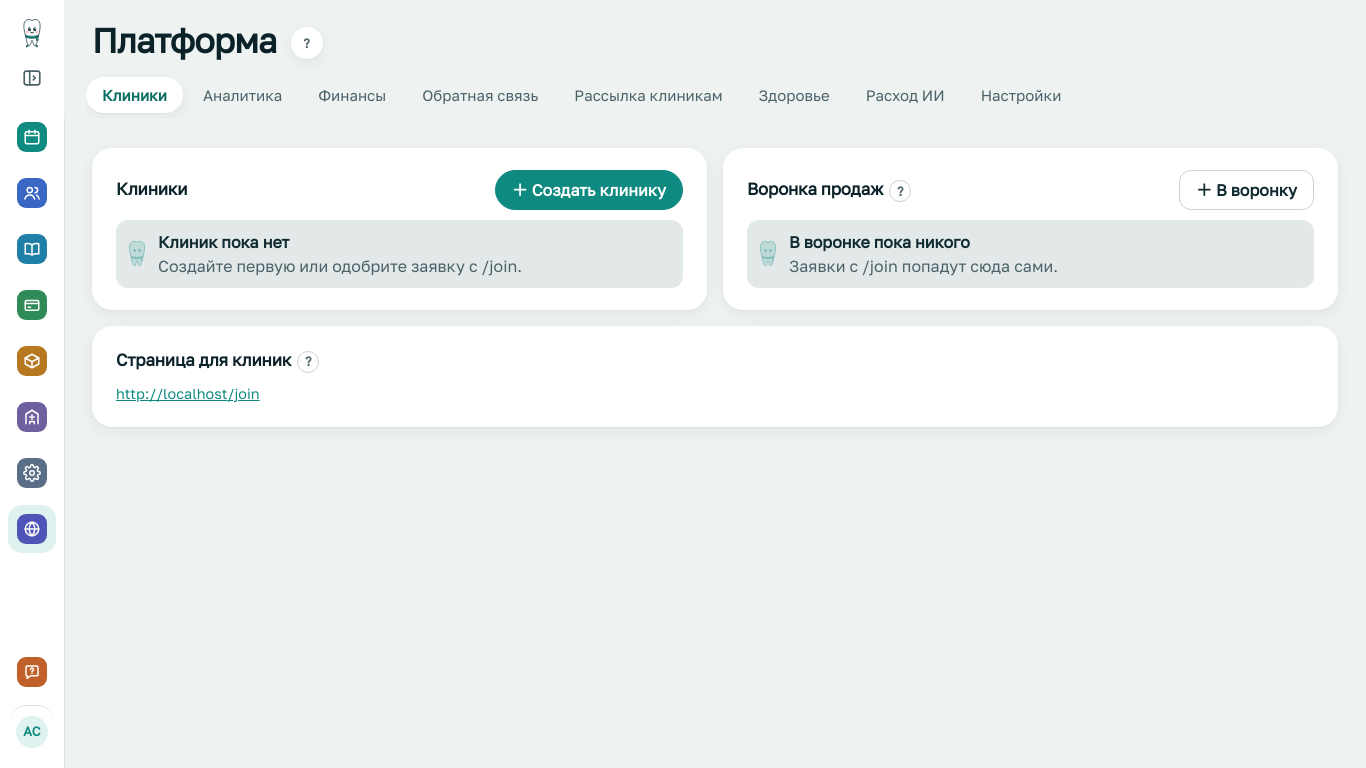
Test case: владелец: аналитика платформы — сводка, кому звонить, риск, воронка; период меняет запрос
Expected: the navigation bar named "Разделы" is shown, [8,113,56,553]
Click the link "Аналитика".
click(242, 95)  # box [203,86,282,104]
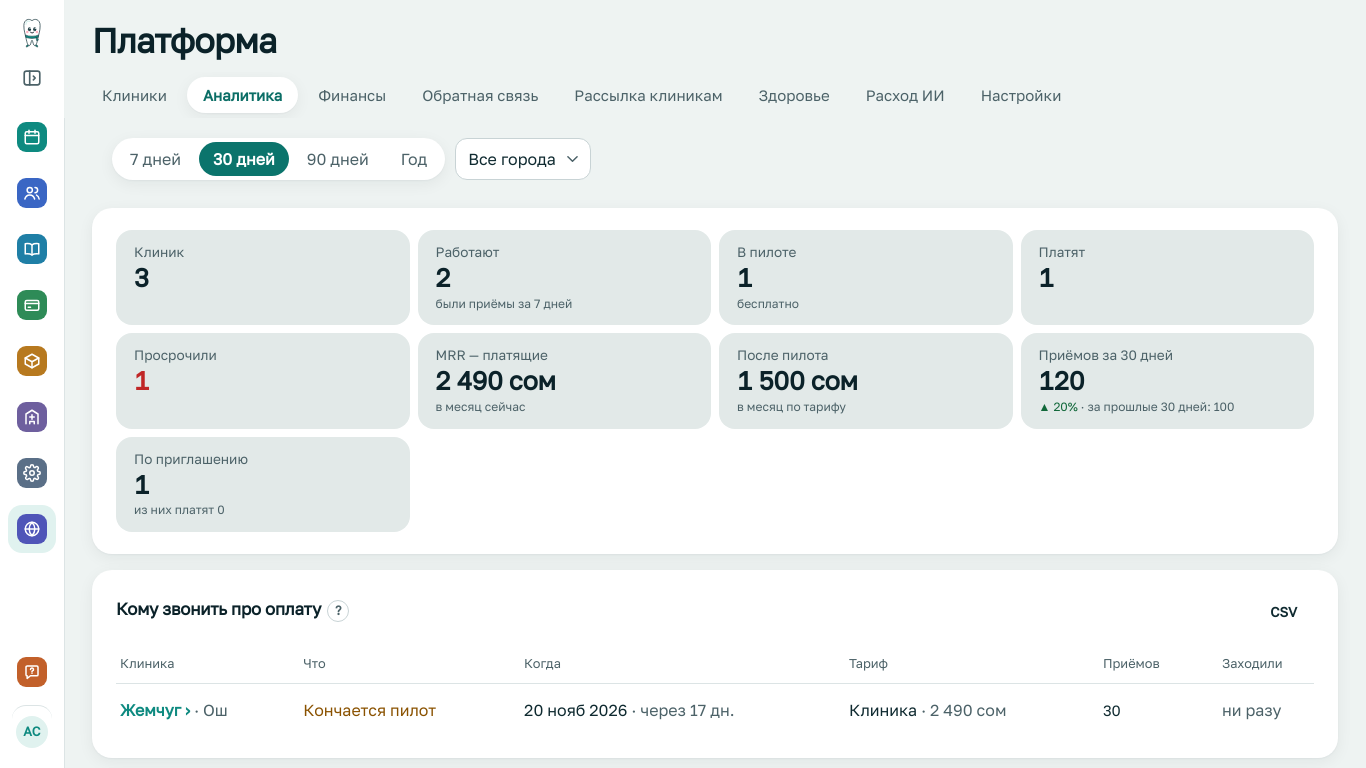
Expected: the list item "Платят 1" is shown, [1020,230,1314,325]
Expected: the list item "MRR — платящие 2 490 сом в месяц сейчас" is shown, [418,333,711,429]
Expected: the list item "После пилота 1 500 сом в месяц по тарифу" is shown, [719,333,1012,429]
Click the button "90 дней".
click(338, 159)  # box [293,142,383,176]
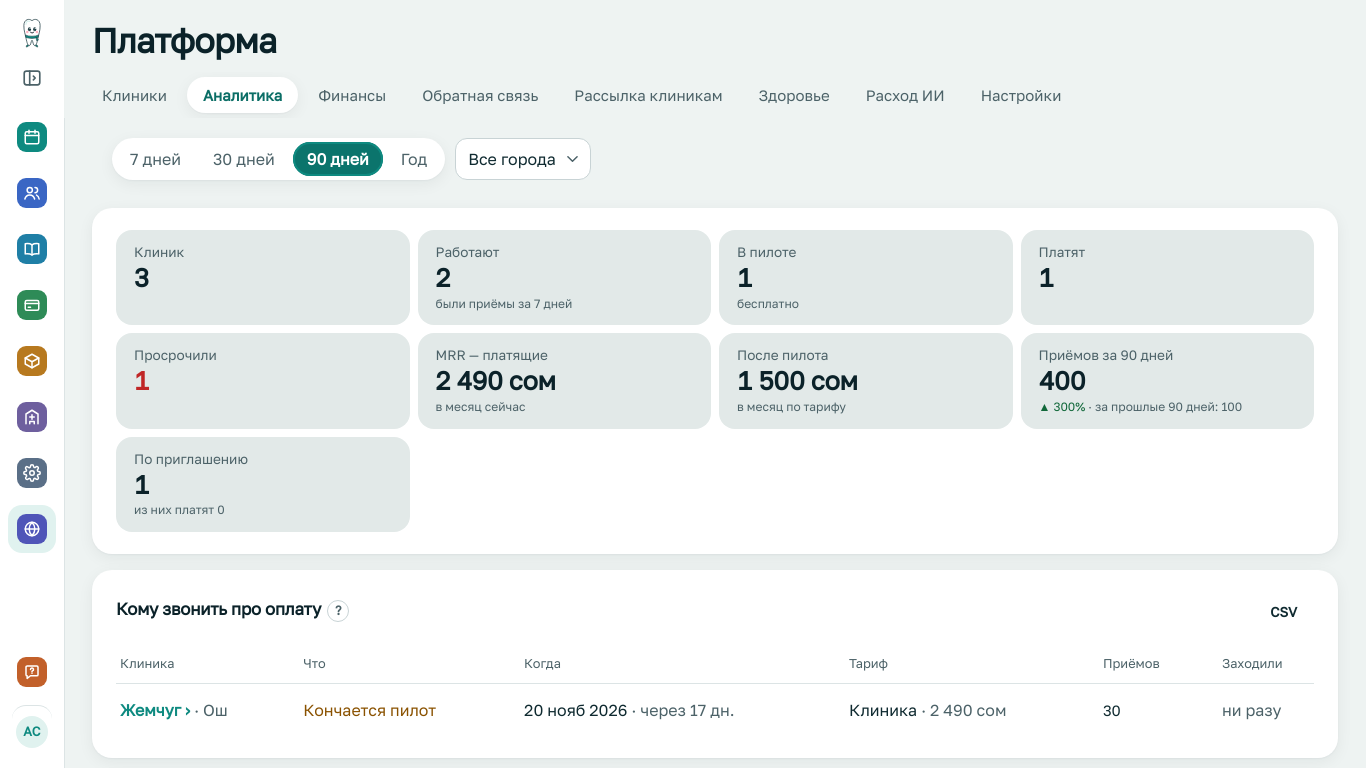
Expected: the text "400" is shown, [1038,365,1085,396]
